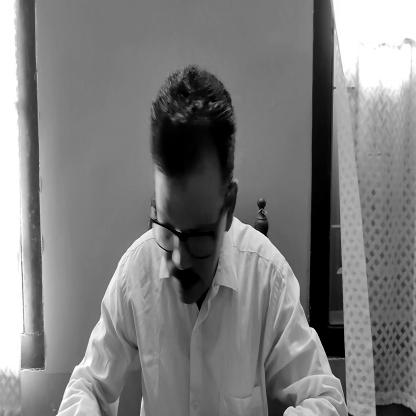Distracted: (149, 70, 243, 303)
